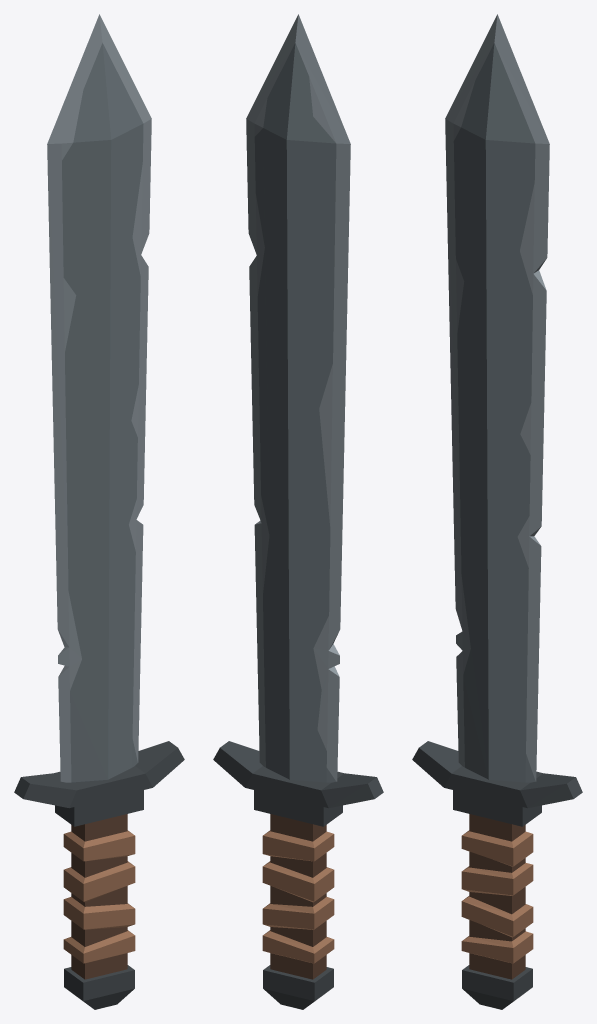
File: SM_Prop_Sword_01.fbx
3 views of the same model, side by side, from view 1: azimuth 30°, elevation 25°; view 2: azimuth 150°, elevation 25°; view 3: azimuth 330°, elevation 25° (orthographic).
Visible parts, largest first — view 1: SM_Prop_Sword_01; view 2: SM_Prop_Sword_01; view 3: SM_Prop_Sword_01.
Boxes of the visible parts, left/top/right/bottom form: SM_Prop_Sword_01: left=14, top=14, right=184, bottom=1009; SM_Prop_Sword_01: left=213, top=14, right=383, bottom=1009; SM_Prop_Sword_01: left=412, top=14, right=582, bottom=1009.
Size of the model in its own units: 21.5 by 126 by 5.4.
